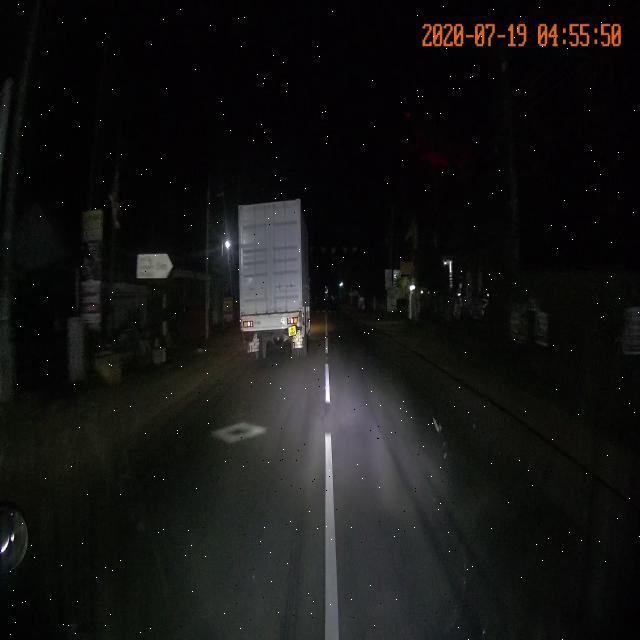diamond: (129, 417, 331, 450)
